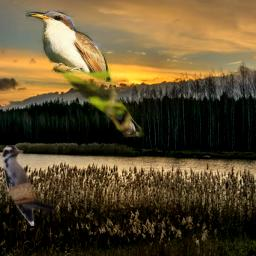Cuckoo: (25, 9, 145, 139)
Woodpecker: (2, 145, 55, 226)
